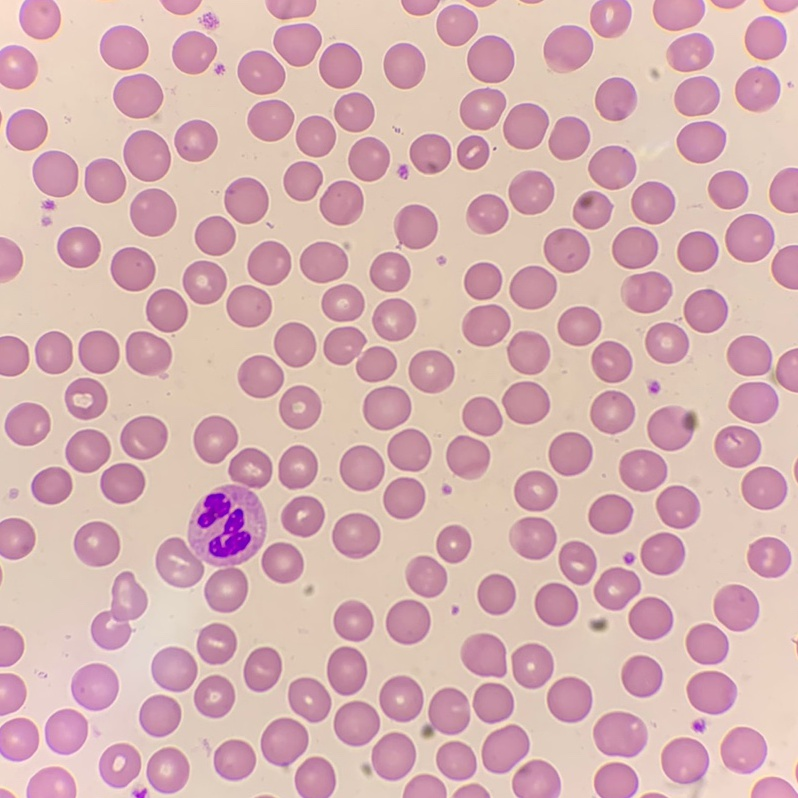RBC: (156, 448, 271, 611), (91, 572, 146, 649), (727, 336, 797, 391), (662, 738, 708, 791), (421, 688, 469, 738), (124, 130, 170, 181), (594, 712, 646, 756), (544, 25, 592, 72), (726, 214, 773, 261), (261, 718, 307, 766), (482, 725, 528, 773), (648, 406, 697, 450), (113, 74, 162, 117), (687, 671, 736, 714), (468, 36, 513, 82), (130, 189, 175, 235), (721, 727, 766, 773), (100, 25, 147, 69), (332, 513, 379, 557), (72, 664, 117, 709), (363, 386, 410, 429), (621, 272, 671, 312), (504, 103, 548, 148), (33, 151, 77, 196), (544, 228, 589, 272), (74, 522, 119, 566), (714, 585, 758, 630), (547, 677, 591, 722), (334, 701, 379, 745), (589, 146, 635, 189), (120, 416, 166, 459), (194, 416, 237, 462), (372, 733, 415, 779), (677, 121, 725, 162), (340, 446, 384, 490), (152, 647, 196, 691), (65, 429, 110, 472), (274, 23, 320, 65), (238, 51, 284, 93), (510, 266, 556, 308), (509, 517, 555, 559), (729, 382, 777, 422), (736, 67, 780, 110), (509, 171, 553, 214), (225, 178, 267, 223), (126, 332, 171, 374), (742, 467, 787, 509), (461, 634, 506, 676), (380, 676, 422, 721), (503, 382, 549, 423), (594, 568, 640, 609), (300, 242, 347, 282), (394, 205, 437, 248), (111, 247, 154, 290), (684, 289, 727, 332), (549, 432, 592, 475), (446, 435, 489, 478), (386, 600, 429, 643), (319, 43, 361, 87), (409, 350, 453, 392), (5, 403, 49, 445), (460, 88, 505, 129), (612, 227, 657, 268), (238, 356, 283, 397), (715, 426, 760, 467), (512, 643, 553, 688), (147, 748, 188, 793), (463, 305, 509, 345), (620, 450, 666, 490), (327, 647, 366, 694), (172, 31, 215, 73), (320, 181, 362, 224), (248, 241, 290, 284), (507, 331, 549, 374), (591, 391, 634, 433), (656, 486, 699, 528), (629, 597, 672, 639), (45, 710, 87, 753), (384, 43, 424, 88), (248, 100, 293, 140), (183, 261, 225, 303), (373, 298, 415, 340), (535, 583, 577, 625), (745, 16, 786, 59), (227, 285, 270, 326), (274, 323, 315, 366), (641, 533, 684, 574), (289, 678, 330, 721), (99, 744, 140, 787), (100, 463, 144, 503), (667, 33, 713, 71), (513, 760, 560, 797), (595, 78, 636, 120), (632, 182, 674, 223), (146, 289, 187, 331), (279, 386, 320, 428), (388, 429, 430, 470), (349, 137, 389, 180), (85, 159, 125, 202), (748, 537, 791, 577), (65, 378, 106, 419), (139, 695, 180, 736), (549, 117, 589, 159), (57, 227, 99, 267), (281, 496, 323, 536), (686, 624, 728, 664), (622, 655, 662, 697), (194, 675, 234, 717), (589, 494, 632, 533), (675, 77, 719, 115), (175, 120, 216, 160), (591, 341, 631, 382), (383, 478, 424, 518), (214, 740, 255, 780), (558, 306, 600, 345), (646, 323, 688, 362), (79, 331, 118, 373), (514, 471, 556, 510), (244, 647, 281, 691), (437, 5, 477, 45), (6, 109, 46, 149), (678, 231, 718, 271), (262, 542, 302, 582), (406, 556, 446, 596), (279, 446, 317, 488), (0, 718, 38, 760), (0, 45, 37, 88), (559, 541, 596, 584), (296, 116, 335, 156), (410, 134, 450, 173), (467, 194, 507, 233), (195, 216, 235, 255), (197, 623, 236, 663), (473, 683, 513, 722), (295, 757, 334, 797), (19, 0, 60, 38), (653, 0, 704, 30), (370, 252, 409, 291), (322, 284, 363, 321), (334, 93, 373, 131), (284, 161, 322, 200), (334, 601, 372, 640), (324, 327, 364, 364), (478, 574, 515, 614), (35, 332, 71, 373), (463, 397, 501, 435), (437, 741, 475, 779), (590, 0, 630, 36), (31, 467, 71, 503), (595, 763, 637, 797), (709, 171, 747, 208), (573, 191, 611, 228), (357, 346, 396, 381), (0, 518, 34, 558), (465, 263, 501, 299), (437, 525, 470, 562), (770, 168, 797, 212), (772, 245, 797, 289), (0, 336, 28, 375), (27, 768, 64, 797), (0, 674, 25, 714), (457, 136, 488, 168), (0, 238, 22, 282), (403, 775, 445, 797), (0, 626, 23, 666), (266, 0, 315, 18), (753, 777, 789, 796), (163, 0, 199, 14), (402, 0, 437, 14), (454, 784, 488, 797), (766, 0, 797, 11), (590, 619, 607, 631), (715, 0, 740, 7), (693, 719, 705, 731), (648, 380, 658, 393), (473, 0, 490, 6), (399, 165, 407, 176), (204, 14, 214, 22), (625, 554, 633, 562), (0, 790, 9, 797), (792, 349, 797, 358), (48, 793, 56, 797), (66, 793, 74, 797), (649, 793, 657, 797)
